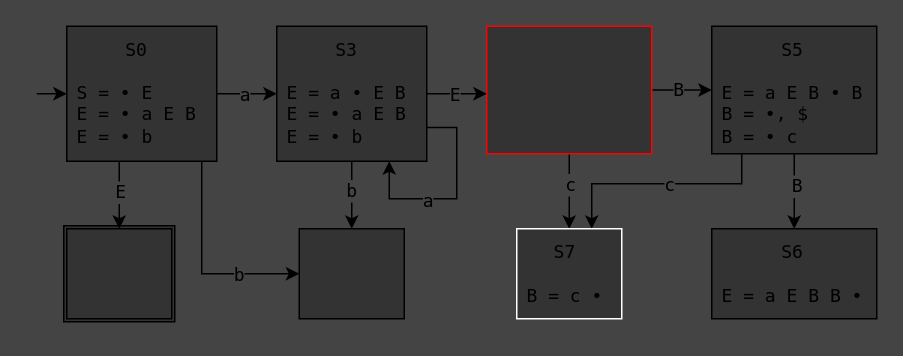
This 903x356 diagram has some shape labels left out. Here are the shapes that lost their labels. From the top down, the box of each, then its label:
(485, 25, 652, 154): S4 E = a E • B B B = •, c$ B = • c
(65, 227, 172, 319): S1 S = E •
(298, 227, 404, 319): S2 E = b •
